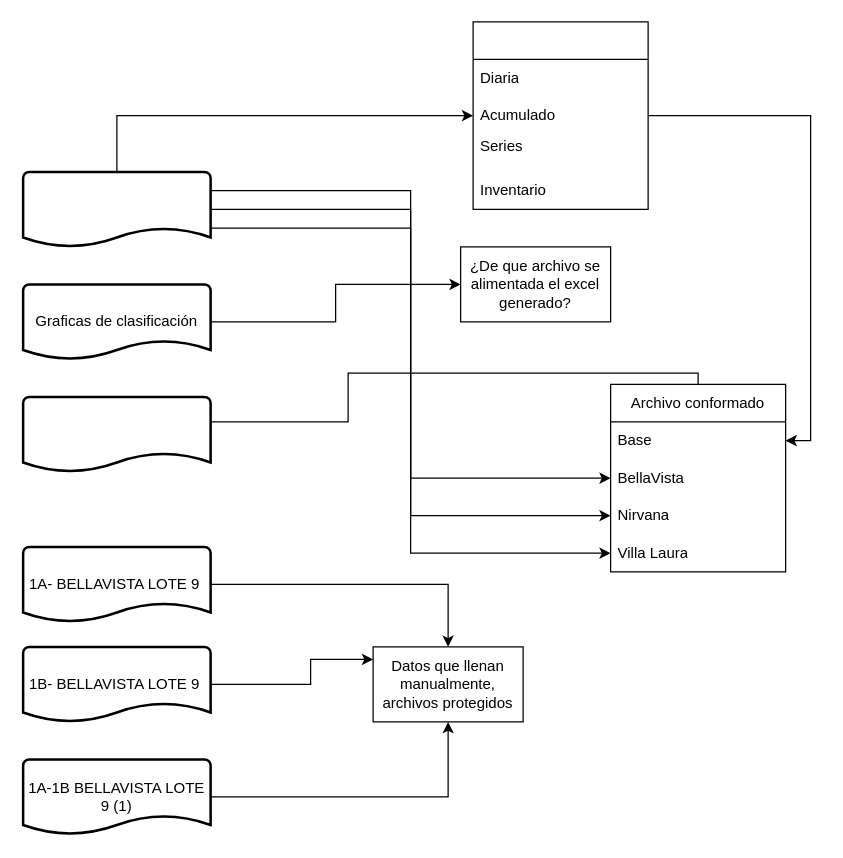
The diagram is 843 pixels wide and 858 high, and some of its shapes have lost their labels. The box of each missing label's shape, as (x1, y1, x2, y2) in pixels:
Archivo Mes: (472, 21, 648, 209)
Informe diario de produccion acumulada: (21, 170, 211, 248)
Tablero de gestón granjas: (21, 395, 211, 472)
